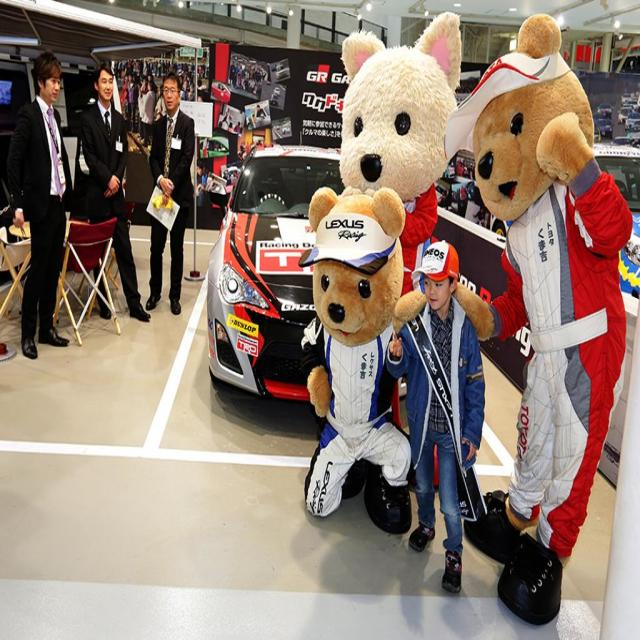nomask: (423, 271, 448, 308), (42, 71, 58, 100), (162, 82, 178, 109), (99, 73, 113, 99), (197, 164, 202, 175), (214, 140, 218, 147), (184, 82, 187, 89), (199, 66, 203, 71), (124, 74, 127, 80), (179, 76, 182, 81), (148, 83, 150, 89), (190, 86, 192, 92), (202, 56, 205, 60), (232, 56, 234, 62), (148, 75, 150, 81), (129, 76, 131, 81), (144, 79, 146, 84), (241, 146, 243, 150)
